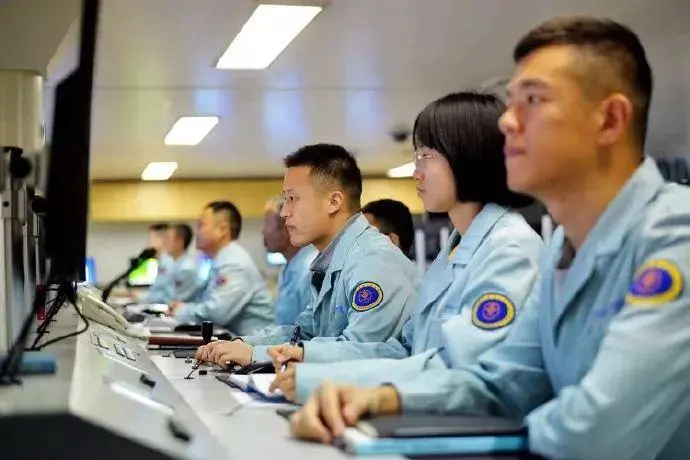withoutmask: (488, 19, 659, 202), (399, 87, 511, 222), (274, 146, 368, 250)
